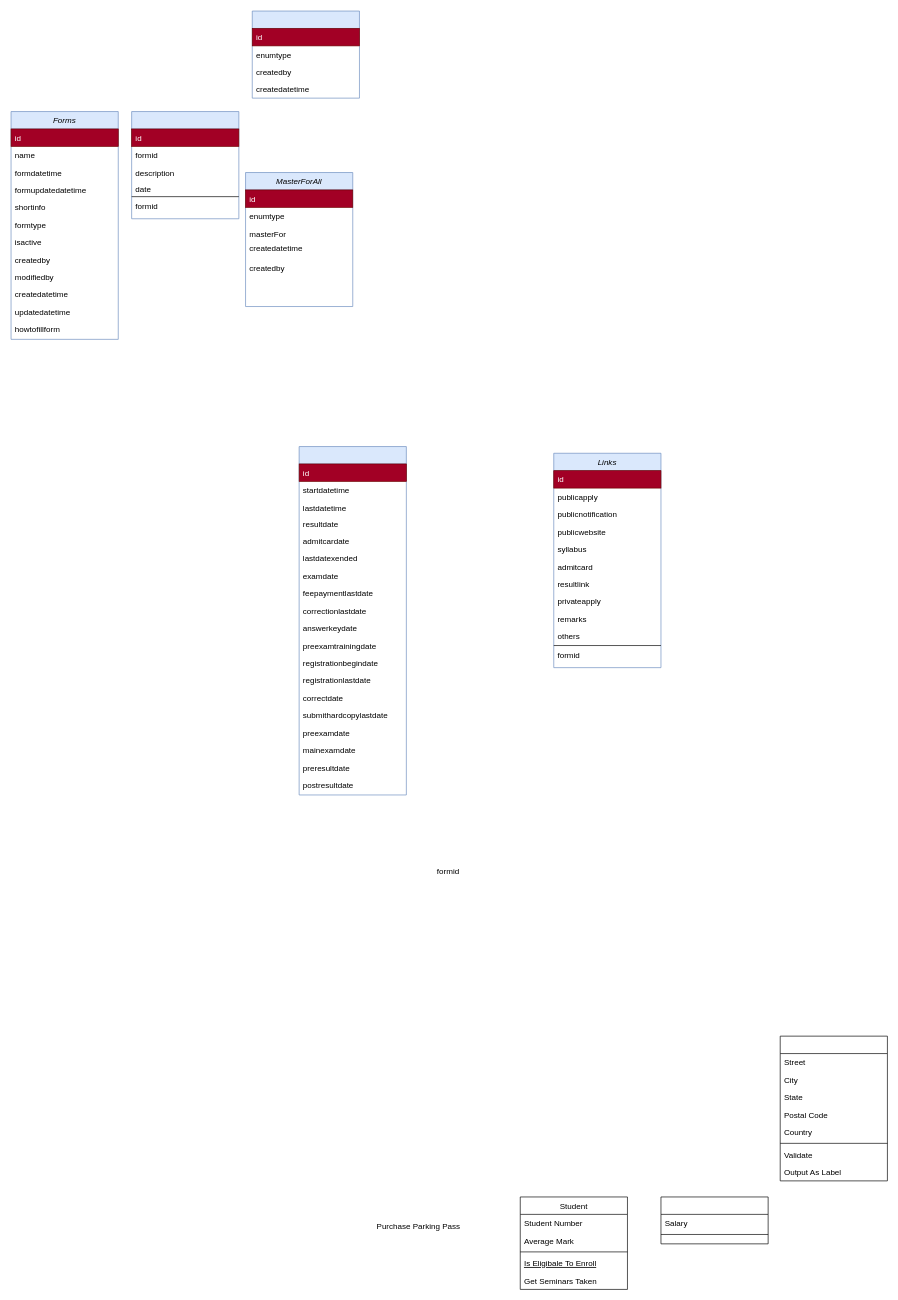
Image size: 898x1300. Some labels were removed from this diagram. Each missing label, with the box of its shape:
Address: (780, 1035, 887, 1181)
DateDescriptionMaster: (252, 10, 359, 98)
datemaster: (131, 111, 239, 219)
ImportantDates: (298, 446, 406, 795)
Professor: (660, 1196, 768, 1244)
